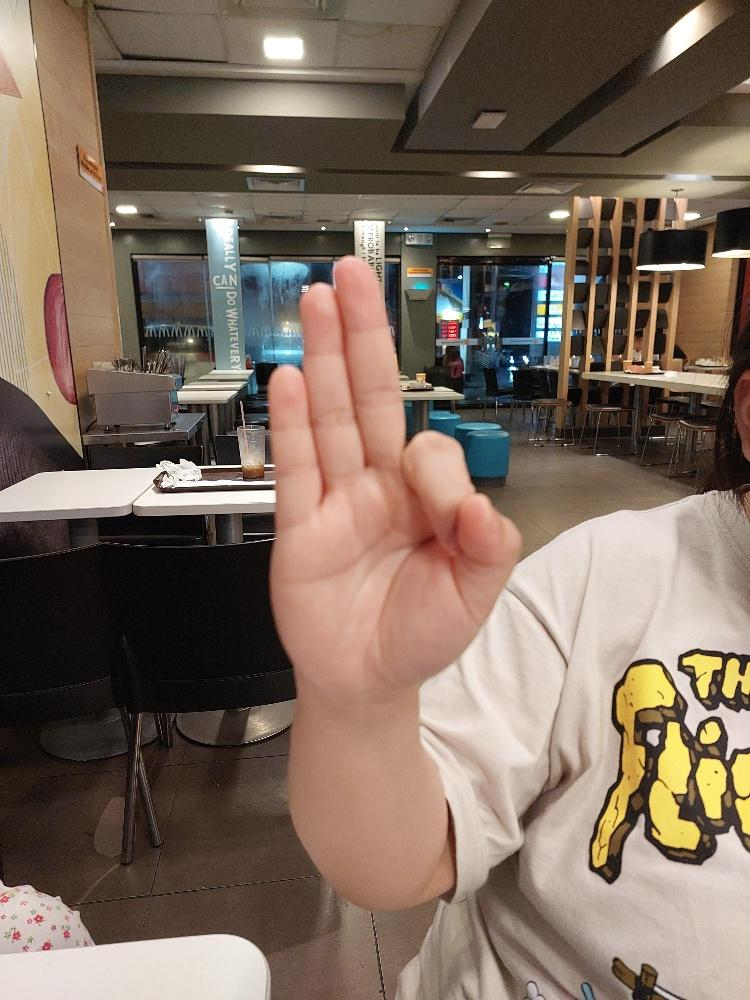f: (266, 253, 522, 692)
